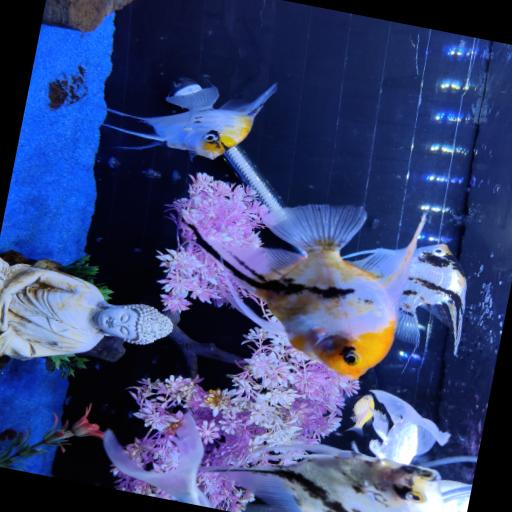Fish: (188, 205, 423, 379), (199, 444, 442, 511), (88, 83, 276, 159), (103, 414, 211, 507), (394, 244, 465, 355), (369, 390, 449, 464), (346, 395, 373, 435), (438, 480, 471, 511)
